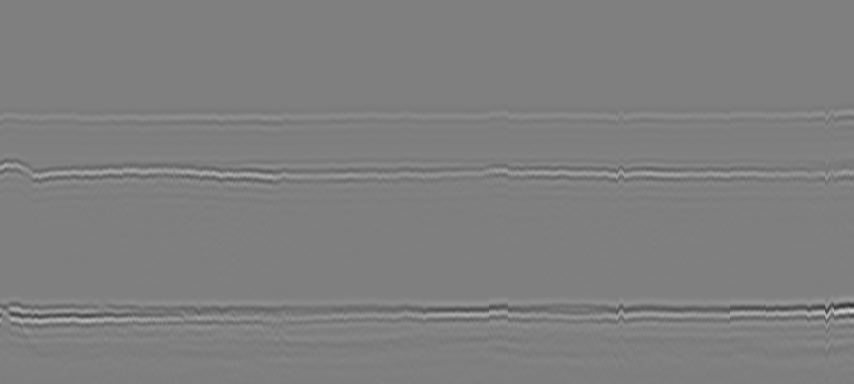fault: (816, 160, 840, 201), (610, 151, 628, 202), (816, 97, 839, 136), (607, 104, 629, 134)
